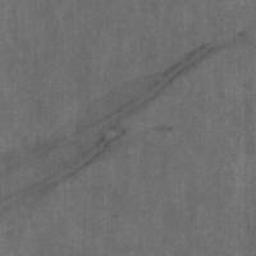Water spot: (0, 29, 250, 227)
